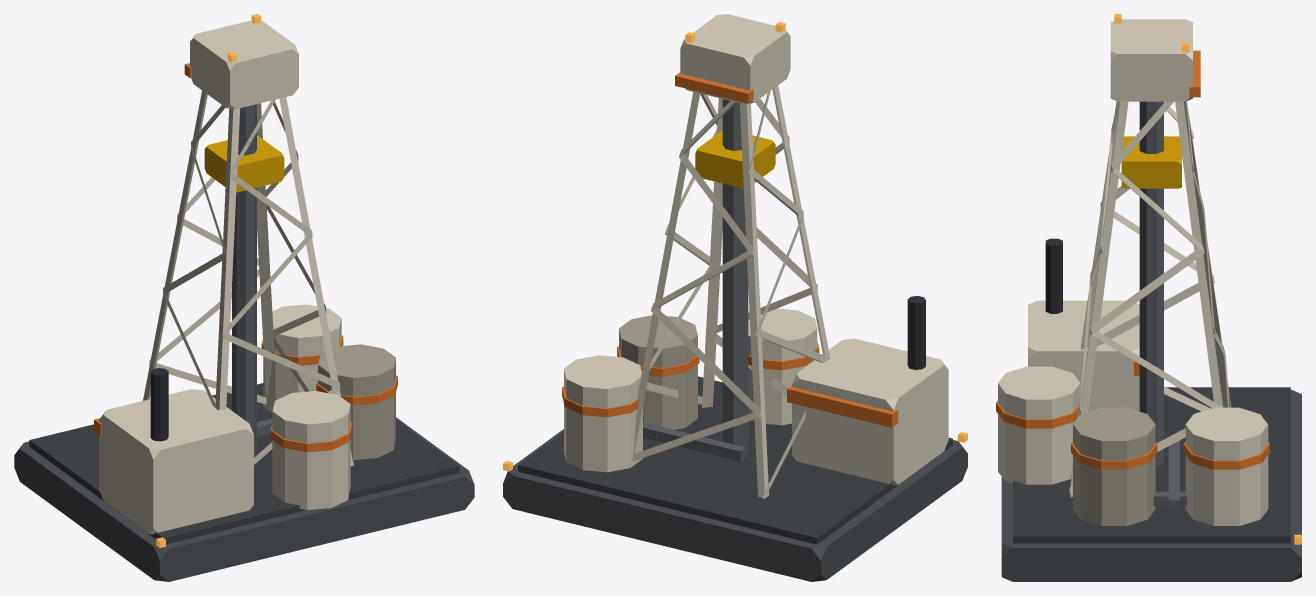
The model's file is hum_str_extractor.glb.
3 renders of one model, left to right at view 1: azimuth 30°, elevation 25°; view 2: azimuth 150°, elevation 25°; view 3: azimuth 270°, elevation 25°, orthographic. The views are drawn at different scales.
Visible parts, largest first — view 1: rig, pump_head; view 2: rig, pump_head; view 3: rig, pump_head.
Part boxes in pixels (box(x1,y1,x2,y2)): rig: box(14, 20, 474, 581); pump_head: box(204, 135, 284, 192); rig: box(503, 14, 967, 581); pump_head: box(695, 130, 775, 188); rig: box(996, 19, 1301, 581); pump_head: box(1121, 136, 1181, 188).
Size of the model in its own units: 10 by 13.9 by 8.15.
Materials: 2 (2 with a texture image).
